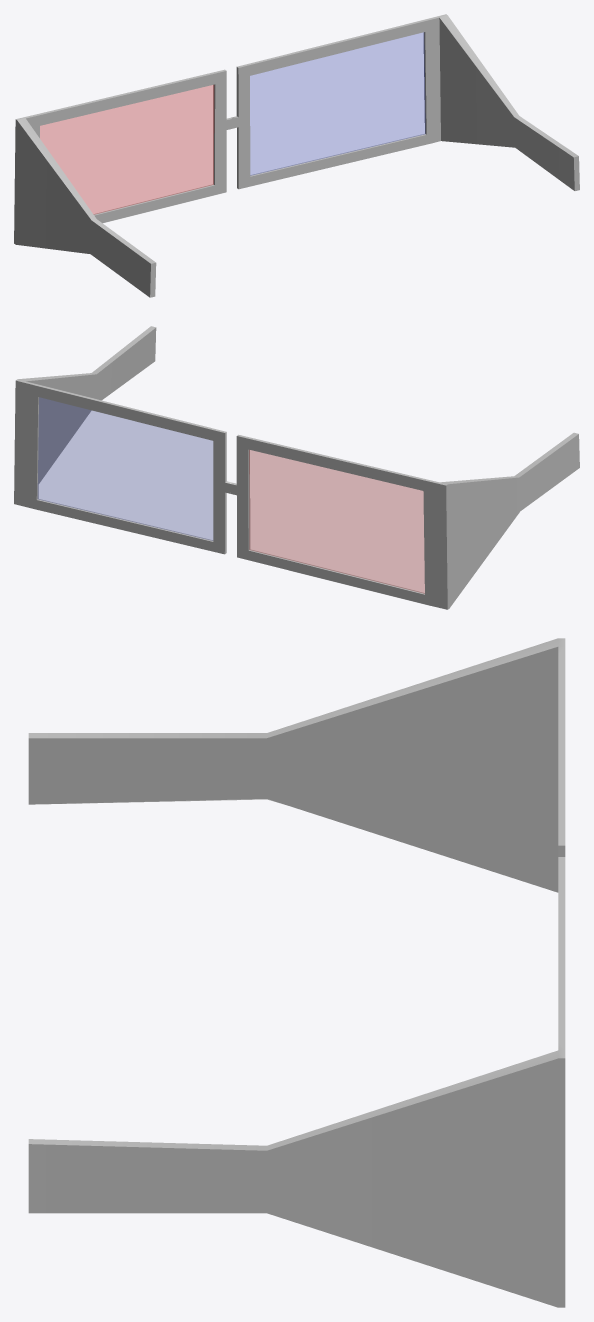
File: 3d_Glasses.fbx
The picture shows the model from 3 angles, top to bottom: view 1: azimuth 30°, elevation 25°; view 2: azimuth 150°, elevation 25°; view 3: azimuth 270°, elevation 25°; orthographic projection. The views are drawn at different scales.
Parts seen in each view (by area): view 1: 3d_Glasses; view 2: 3d_Glasses; view 3: 3d_Glasses.
Part boxes in pixels (left/top/right/bottom): 3d_Glasses: left=14, top=14, right=579, bottom=297; 3d_Glasses: left=14, top=326, right=579, bottom=609; 3d_Glasses: left=28, top=638, right=565, bottom=1307.
Size of the model in its own units: 79.2 by 21.65 by 42.43.
